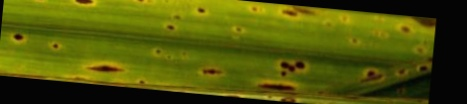Bacterial_Leaf_Blight: (267, 54, 312, 79), (84, 61, 131, 78), (365, 63, 384, 95), (257, 80, 299, 93), (396, 22, 419, 45), (196, 64, 236, 76), (245, 1, 265, 24), (396, 62, 422, 78), (152, 42, 170, 63), (228, 23, 249, 38), (69, 0, 97, 11), (277, 0, 295, 17), (49, 35, 61, 58), (13, 27, 29, 44), (163, 19, 178, 35), (350, 35, 362, 54), (320, 17, 336, 31), (196, 4, 208, 18)
